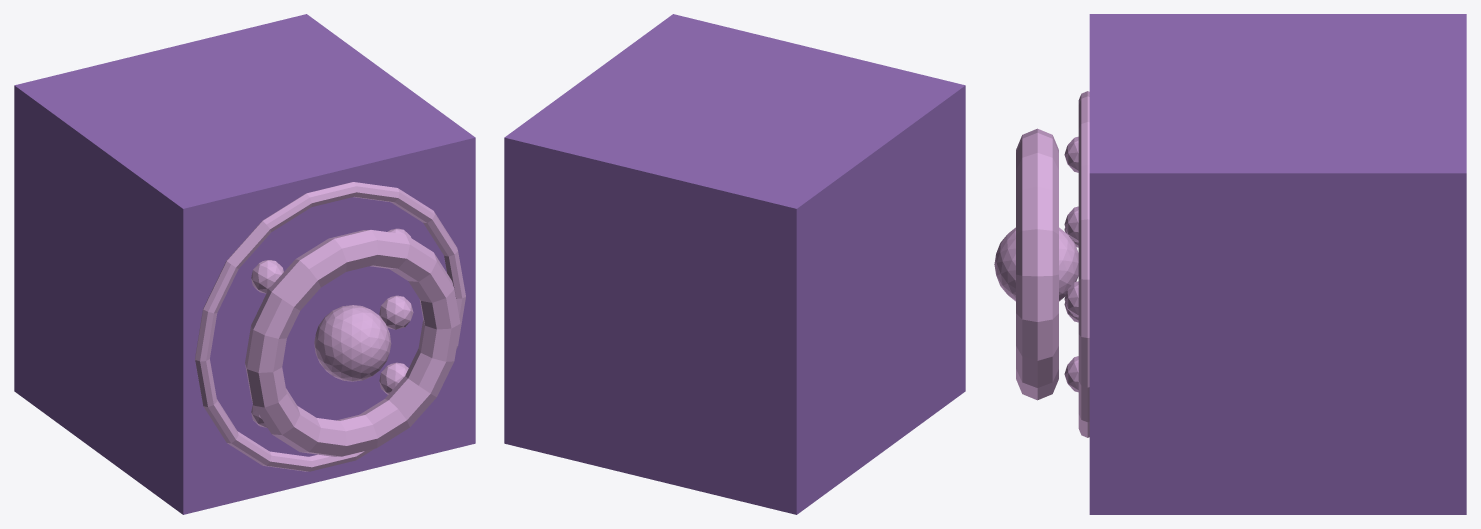
File: omega.glb
3 views of the same model, side by side, from view 1: azimuth 30°, elevation 25°; view 2: azimuth 150°, elevation 25°; view 3: azimuth 270°, elevation 25° (orthographic). The views are drawn at different scales.
Visible parts, largest first — view 1: world; view 2: world; view 3: world.
Part boxes in pixels (x1,y1,x2,y2): world: (14,14,475,514); world: (504,14,965,514); world: (994,14,1466,514).
Size of the model in its own units: 1.05 by 1.05 by 1.31.
